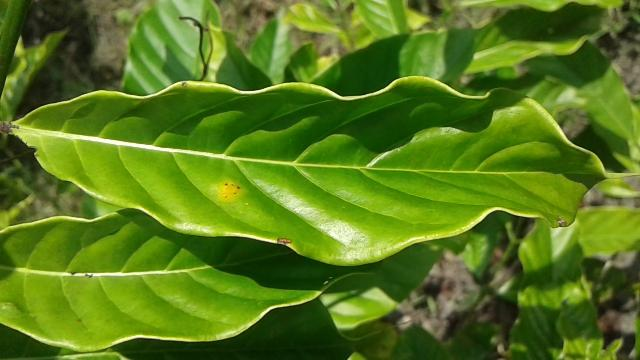rust_level_1: (20, 79, 593, 265)
